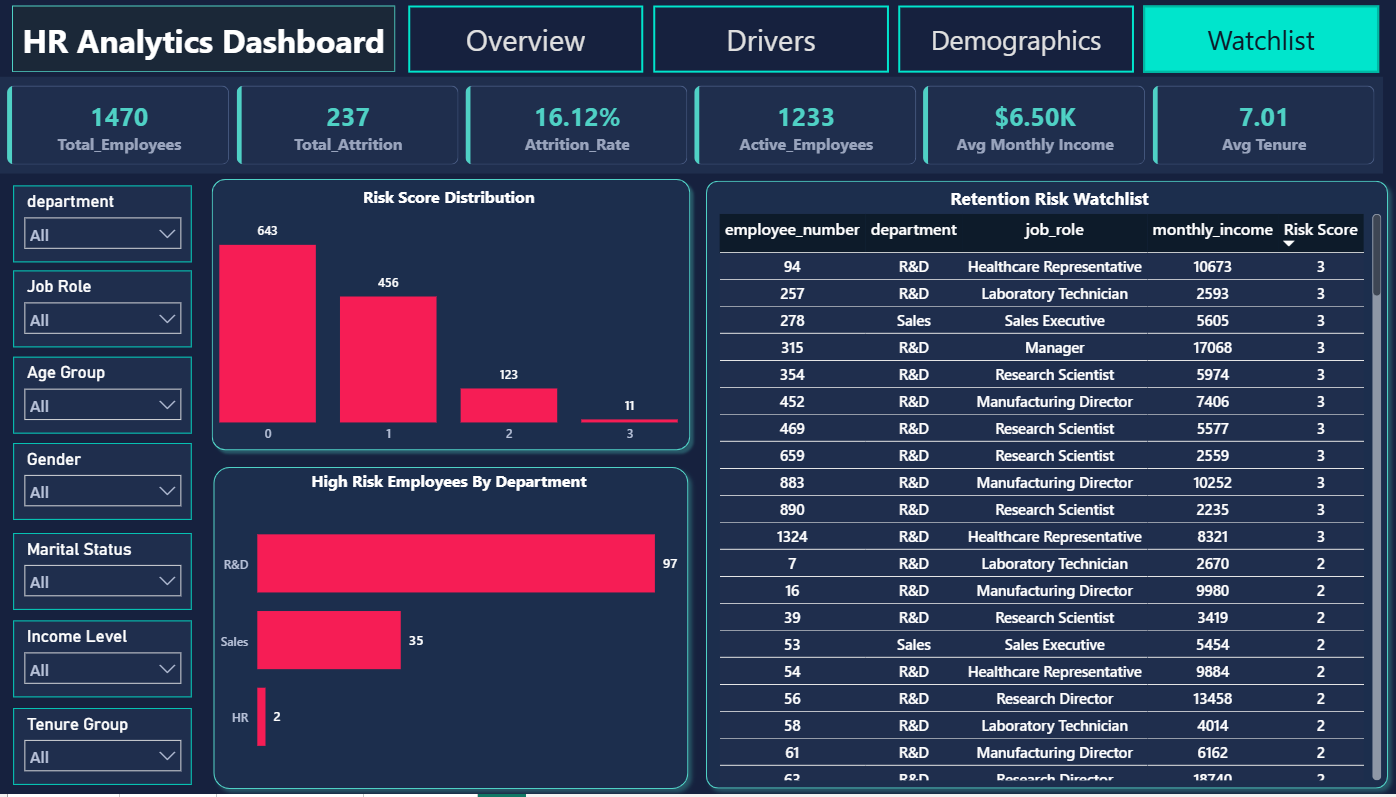

This screenshot's page, from the dashboard's own definition file:
{"tool":"powerbi","page":{"name":"Watchlist","canvas":[1400,800],"ordinal":3},"visuals":[{"type":"shape","box":[700,174.3,700,625.7],"z":0},{"type":"shape","box":[207.1,174.3,492.9,285.7],"z":1000},{"type":"shape","box":[207.1,460,492.9,340],"z":2000},{"type":"shape","box":[15.3,6.9,383.3,66.7],"z":3000},{"type":"textbox","box":[15.3,16.7,383.3,56.9],"z":4000},{"type":"barChart","title":"High Risk Employees By Department","fields":{"Category":["public hr_attrition.department"],"Y":["public hr_attrition.Total High Risk"]},"box":[217.1,471.4,468.6,315.7],"z":5000},{"type":"tableEx","title":"Retention Risk Watchlist","fields":{"Values":["public hr_attrition.employee_number","public hr_attrition.department","public hr_attrition.job_role","public hr_attrition.monthly_income","Sum(public hr_attrition.Risk Score)"]},"box":[715.7,188.6,672.9,598.6],"z":6000},{"type":"slicer","fields":{"Values":["public hr_attrition.department"]},"box":[15.7,187.1,178.6,77.1],"z":7000},{"type":"cardVisual","fields":{"Data":["public hr_attrition.Total_Employees","public hr_attrition.Total_Attrition","public hr_attrition.Attrition_Rate","public hr_attrition.Active_Employees","public hr_attrition.Avg Monthly Income","public hr_attrition.Avg Tenure"]},"box":[1.4,78.6,1387.1,97.1],"z":8000},{"type":"clusteredColumnChart","title":"Risk Score Distribution","fields":{"Category":["public hr_attrition.Risk Score"],"Y":["public hr_attrition.Total_Employees"]},"box":[217.1,187.1,468.6,267.1],"z":9000},{"type":"slicer","fields":{"Values":["public hr_attrition.job_role"]},"box":[15.7,273,178.6,77.1],"z":10000},{"type":"slicer","fields":{"Values":["public hr_attrition.age_group"]},"box":[15.7,359,178.6,77.1],"z":11000},{"type":"slicer","fields":{"Values":["public hr_attrition.gender"]},"box":[15.7,445,178.6,77.1],"z":12000},{"type":"slicer","fields":{"Values":["public hr_attrition.marital_status"]},"box":[15.7,535,178.6,77.1],"z":13000},{"type":"slicer","fields":{"Values":["public hr_attrition.income_level"]},"box":[15.7,623,178.6,77.1],"z":14000},{"type":"slicer","fields":{"Values":["public hr_attrition.tenure_group"]},"box":[15.7,710,178.6,77.1],"z":15000},{"type":"actionButton","box":[411,7.1,235,67.1],"z":16000},{"type":"actionButton","box":[656,7.1,235.7,67.1],"z":17000},{"type":"actionButton","box":[901,7.1,235.7,67.1],"z":18000},{"type":"actionButton","box":[1146,7.1,235.7,67.1],"z":19000}]}

Visuals, with their boxes in screenshot pixels (x1, y1, x2, y2), scaled from the page's 1400x800 canvas onto the 1396x797 screenshot:
shape: (left=698, top=174, right=1395, bottom=796)
shape: (left=207, top=174, right=698, bottom=458)
shape: (left=207, top=458, right=698, bottom=796)
shape: (left=15, top=7, right=397, bottom=73)
textbox: (left=15, top=17, right=397, bottom=73)
"High Risk Employees By Department" barChart: (left=216, top=470, right=684, bottom=784)
"Retention Risk Watchlist" tableEx: (left=714, top=188, right=1385, bottom=784)
slicer - public hr_attrition.department: (left=16, top=186, right=194, bottom=263)
cardVisual - public hr_attrition.Total_Employees x public hr_attrition.Total_Attrition: (left=1, top=78, right=1385, bottom=175)
"Risk Score Distribution" clusteredColumnChart: (left=216, top=186, right=684, bottom=452)
slicer - public hr_attrition.job_role: (left=16, top=272, right=194, bottom=349)
slicer - public hr_attrition.age_group: (left=16, top=358, right=194, bottom=434)
slicer - public hr_attrition.gender: (left=16, top=443, right=194, bottom=520)
slicer - public hr_attrition.marital_status: (left=16, top=533, right=194, bottom=610)
slicer - public hr_attrition.income_level: (left=16, top=621, right=194, bottom=697)
slicer - public hr_attrition.tenure_group: (left=16, top=707, right=194, bottom=784)
actionButton: (left=410, top=7, right=644, bottom=74)
actionButton: (left=654, top=7, right=889, bottom=74)
actionButton: (left=898, top=7, right=1133, bottom=74)
actionButton: (left=1143, top=7, right=1378, bottom=74)
